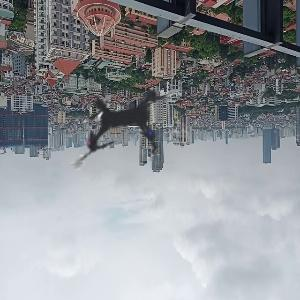drone: (30, 32, 218, 220)
